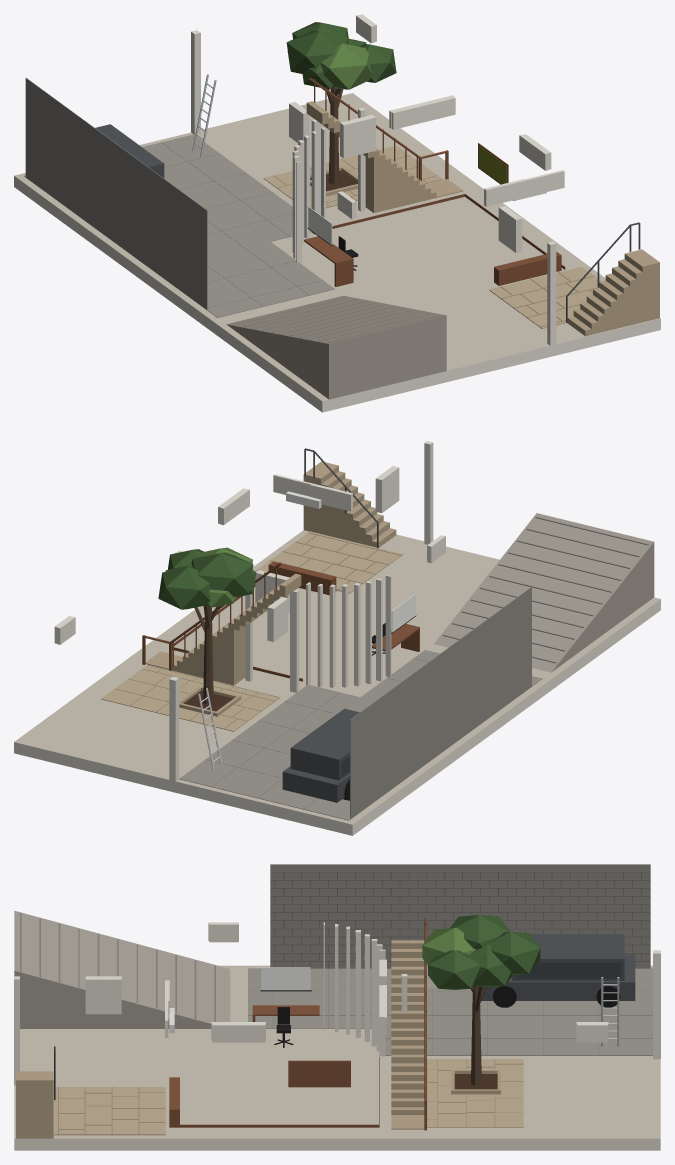
The model's file is basement.glb.
3 views of the same model, one above another, from view 1: azimuth 30°, elevation 25°; view 2: azimuth 150°, elevation 25°; view 3: azimuth 270°, elevation 25° (orthographic). The views are drawn at different scales.
Visible parts, largest first — view 1: Terrazzo, Concrete Block, Garage Concrete, Concrete, Kota, Lime White, Lime White_high, Lime White_wall, Flagstone, Teak, Foliage #3F5E33, Concrete Joint (+6 smaller); view 2: Terrazzo, Concrete Block, Concrete, Garage Concrete, Lime White_wall, Flagstone, Kota, Lime White, Lime White_high, Car Grey, Foliage #3F5E33, Teak (+5 smaller); view 3: Terrazzo, Concrete Block, Garage Concrete, Concrete, Flagstone, Kota, Lime White, Car Grey, Block Joint, Foliage #3F5E33, Lime White_wall, Lime White_high (+12 smaller).
Boxes of the visible parts, x1,y1,x2,y2 form: Terrazzo: (14,93,660,401); Concrete Block: (25,78,207,309); Garage Concrete: (24,134,334,317); Concrete: (226,295,446,399); Kota: (306,101,659,336); Lime White: (14,176,660,412); Lime White_high: (289,14,564,252); Lime White_wall: (191,30,556,345); Flagstone: (263,145,601,328); Teak: (304,77,565,286); Foliage #3F5E33: (286,22,396,89); Concrete Joint: (161,142,404,335); Terrazzo: (14,530,660,824); Concrete Block: (350,587,531,818); Concrete: (434,513,654,672); Garage Concrete: (179,650,542,820); Lime White_wall: (169,441,433,781); Flagstone: (101,531,402,731); Kota: (145,461,396,716); Lime White: (14,599,660,835); Lime White_high: (54,466,445,644); Car Grey: (282,708,359,802); Foliage #3F5E33: (158,549,256,609); Teak: (142,561,419,681); Terrazzo: (14,965,660,1138); Concrete Block: (270,864,650,968); Garage Concrete: (248,968,652,1055); Concrete: (14,910,230,1028); Flagstone: (54,1059,523,1135); Kota: (16,940,500,1138); Lime White: (14,1138,660,1150); Car Grey: (481,934,635,1000); Block Joint: (270,871,650,968); Foliage #3F5E33: (428,915,540,989); Lime White_wall: (14,922,660,1085); Lime White_high: (85,922,608,1042).
Size of the model in its own units: 4.58 by 2.15 by 7.23.
